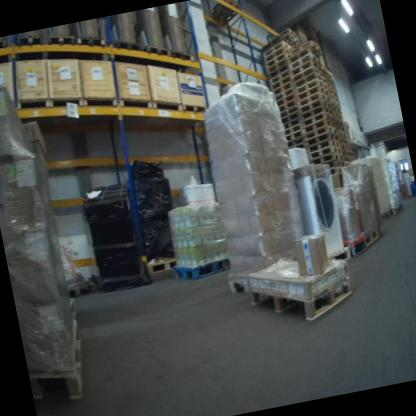pallet: (18, 301, 103, 410), (246, 260, 360, 335), (170, 243, 226, 287), (216, 265, 267, 308), (71, 29, 113, 66), (44, 30, 84, 61), (13, 30, 53, 61), (144, 252, 185, 281), (206, 0, 247, 29), (63, 273, 102, 302), (113, 33, 148, 65), (286, 49, 325, 76), (304, 136, 344, 161), (182, 97, 213, 129), (287, 58, 323, 81), (298, 110, 335, 132), (305, 142, 344, 161), (301, 123, 337, 143), (327, 245, 354, 270), (142, 37, 169, 62), (303, 129, 338, 148), (343, 232, 369, 257), (300, 117, 335, 135), (361, 227, 386, 252), (171, 45, 198, 67), (311, 149, 342, 168), (0, 38, 15, 65), (377, 208, 393, 227)
